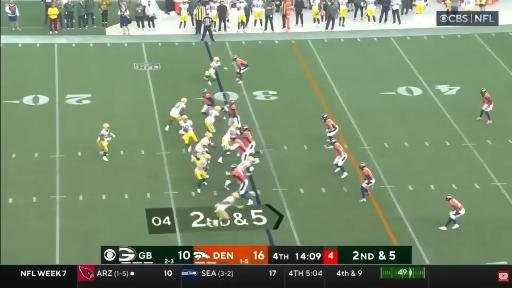Helmet: (445, 193, 453, 202), (231, 193, 239, 201), (321, 113, 329, 121), (359, 162, 366, 170), (102, 123, 109, 130), (214, 56, 221, 63), (213, 106, 221, 112), (205, 133, 213, 139), (200, 88, 207, 94), (228, 99, 234, 106), (182, 116, 189, 122), (231, 163, 237, 170), (331, 138, 337, 145), (481, 88, 487, 95), (232, 123, 238, 129), (242, 126, 249, 131), (204, 155, 209, 162), (230, 136, 237, 141), (232, 55, 237, 61), (182, 98, 187, 103)
Jersey: (170, 102, 185, 117), (232, 169, 246, 182), (194, 143, 206, 158), (206, 110, 219, 123), (362, 167, 374, 181), (234, 139, 246, 153), (333, 143, 345, 157), (219, 196, 235, 206), (449, 199, 463, 210), (237, 161, 251, 172), (202, 94, 214, 106), (180, 120, 192, 132), (196, 159, 207, 171), (243, 132, 253, 145), (227, 127, 238, 138), (99, 129, 109, 140), (326, 119, 336, 130), (253, 0, 263, 11), (237, 3, 246, 15), (228, 105, 237, 117), (311, 0, 321, 10), (210, 3, 218, 15), (235, 59, 247, 67), (200, 137, 211, 145), (483, 93, 491, 104), (211, 61, 220, 70), (367, 0, 375, 10), (180, 3, 188, 13), (464, 0, 475, 7), (339, 0, 347, 8)
Player: (207, 193, 242, 227), (230, 165, 253, 205), (439, 195, 465, 230), (218, 124, 239, 162), (218, 137, 248, 162), (165, 98, 187, 131), (241, 125, 261, 159), (97, 124, 115, 161), (331, 139, 347, 178), (180, 116, 197, 151), (359, 163, 374, 202), (195, 154, 210, 193), (477, 89, 493, 123), (204, 57, 221, 85), (322, 114, 338, 142), (205, 106, 221, 133), (192, 140, 209, 165), (233, 56, 248, 83), (227, 100, 241, 126), (201, 89, 214, 115), (236, 0, 246, 32), (252, 0, 263, 29), (237, 157, 255, 174), (210, 0, 219, 31), (180, 0, 188, 31), (367, 0, 376, 25), (312, 0, 320, 27), (339, 0, 347, 27), (201, 132, 215, 147), (463, 0, 475, 11)
